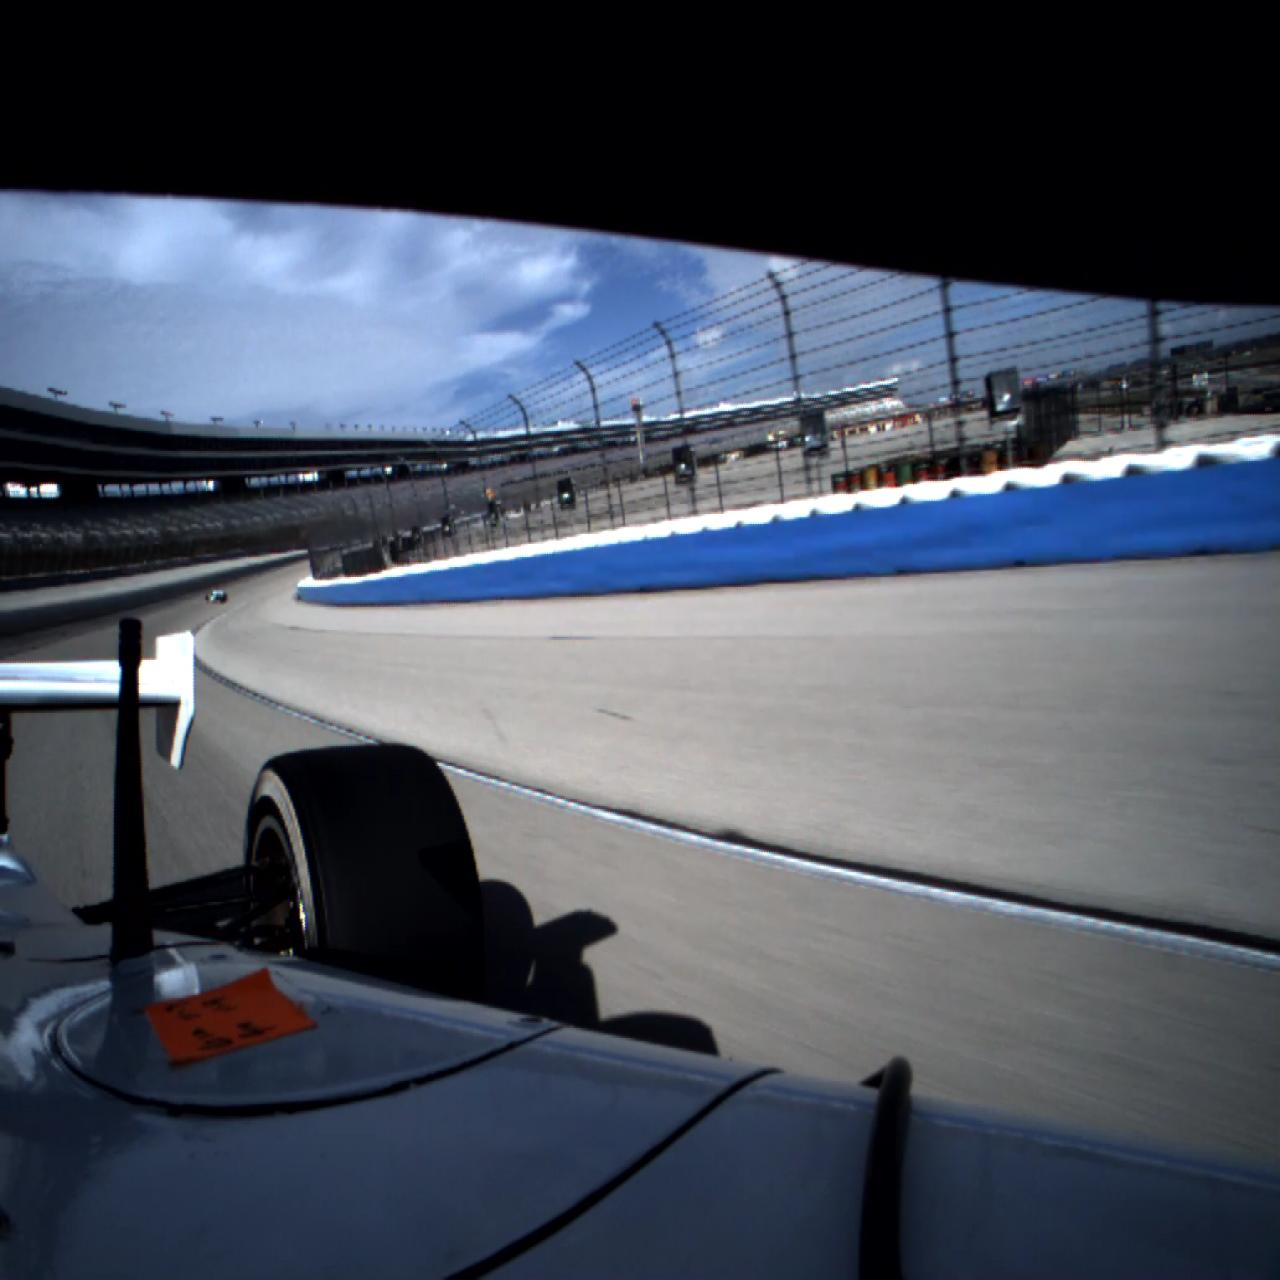AV: (205, 590, 229, 605)
Wheel: (244, 743, 481, 1006)
